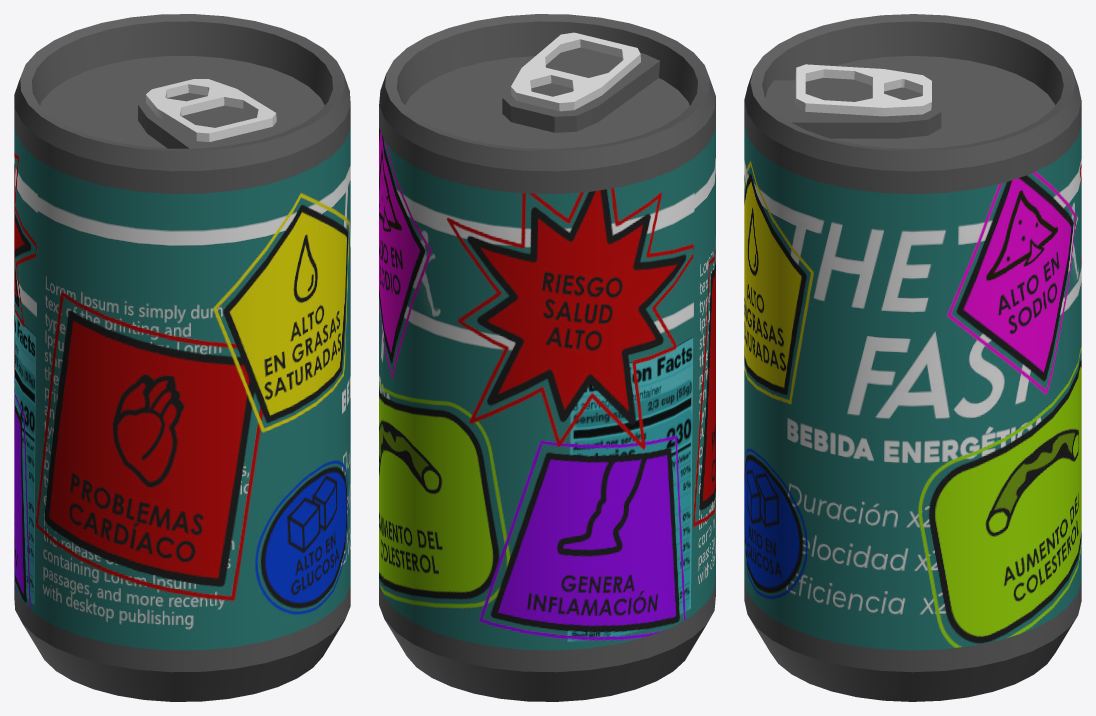
The model's file is Lata_02.fbx.
3 views of the same model, side by side, from view 1: azimuth 30°, elevation 25°; view 2: azimuth 150°, elevation 25°; view 3: azimuth 270°, elevation 25° (orthographic).
Visible parts, largest first — view 1: lata02; view 2: lata02; view 3: lata02.
Part boxes in pixels (left/top/right/bottom): lata02: left=14, top=14, right=350, bottom=701; lata02: left=379, top=14, right=715, bottom=701; lata02: left=744, top=14, right=1081, bottom=701.
Size of the model in its own units: 195 by 355 by 195.
3 materials, 1 textured.
